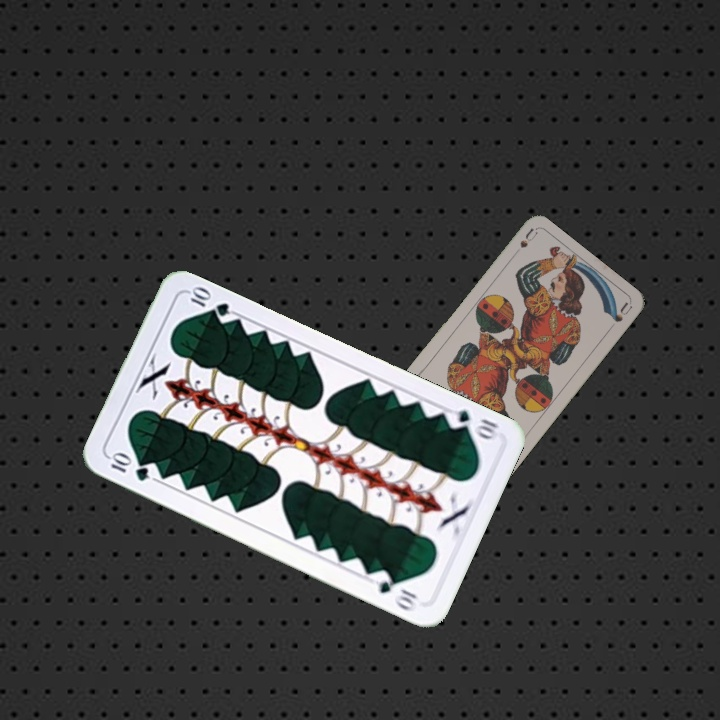G10: (442, 405, 502, 443), (105, 449, 152, 484)
SU: (508, 225, 540, 261)
